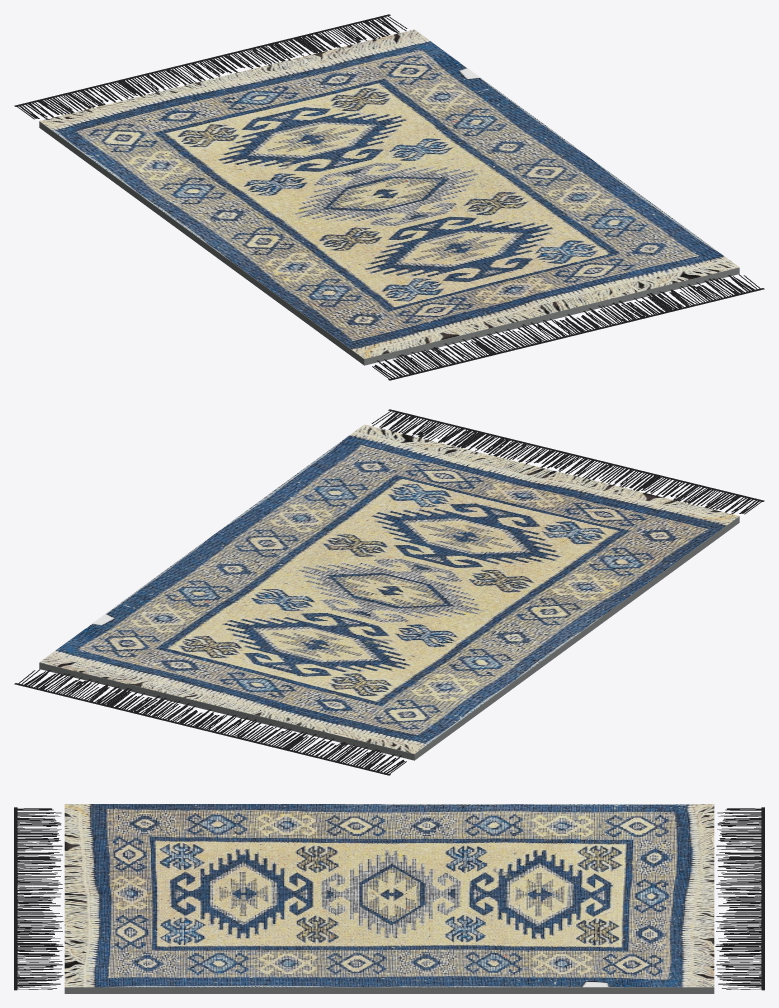
The picture shows the model from 3 angles, top to bottom: view 1: azimuth 30°, elevation 25°; view 2: azimuth 150°, elevation 25°; view 3: azimuth 270°, elevation 25°; orthographic projection.
Visible parts, largest first — view 1: rug, fringeB, fringeA, side; view 2: rug, fringeA, fringeB, side; view 3: rug, fringeB, fringeA, side.
Boxes of the visible parts, <box> form: rug: <box>39,29,739,358</box>; fringeB: <box>372,274,764,380</box>; fringeA: <box>14,14,407,119</box>; side: <box>39,121,739,365</box>; rug: <box>39,424,739,753</box>; fringeA: <box>14,669,406,775</box>; fringeB: <box>371,409,764,514</box>; side: <box>39,516,739,760</box>; rug: <box>64,804,714,987</box>; fringeB: <box>14,807,63,990</box>; fringeA: <box>715,807,764,990</box>; side: <box>64,987,714,993</box>.
Size of what is drawn, in the model's own units: 0.6 by 0.0102 by 1.04.
Materials: 2 (2 with a texture image).
